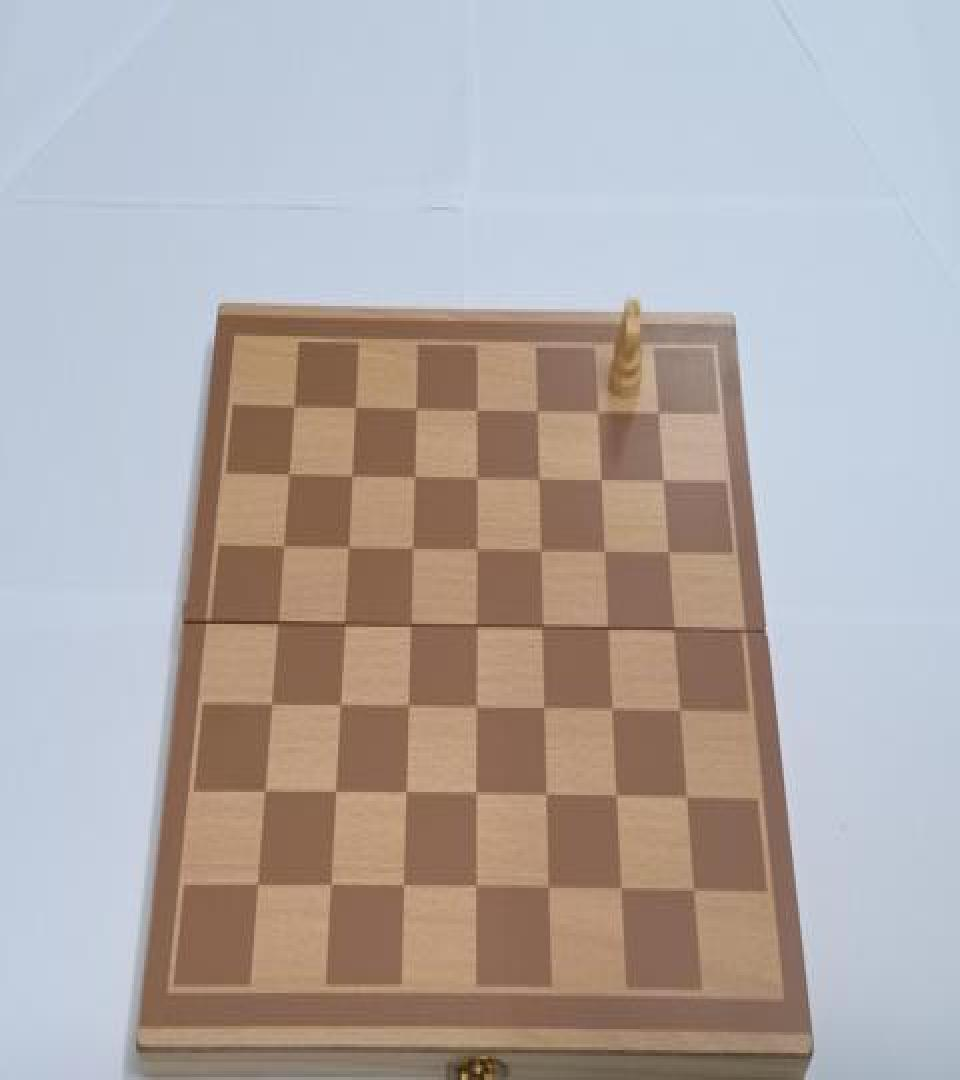xcorner: (344, 460, 362, 488), (399, 694, 417, 722), (469, 394, 487, 422), (468, 694, 486, 722), (593, 466, 611, 494), (656, 466, 674, 494), (281, 459, 299, 486), (275, 532, 293, 559), (269, 609, 287, 636), (254, 780, 272, 807), (246, 873, 264, 900), (348, 393, 366, 420), (340, 534, 358, 561), (335, 610, 353, 637), (330, 693, 348, 720), (325, 780, 343, 807), (320, 874, 338, 901), (409, 393, 427, 420), (406, 462, 424, 489), (404, 534, 422, 561), (402, 612, 420, 639), (393, 876, 411, 903), (467, 783, 485, 810), (467, 876, 485, 903), (530, 396, 548, 423), (531, 465, 549, 492), (533, 537, 551, 564), (536, 696, 554, 723), (538, 785, 556, 812), (590, 397, 608, 424), (597, 538, 615, 565), (600, 615, 618, 642), (608, 785, 626, 812), (613, 879, 631, 906), (651, 399, 669, 426), (661, 540, 679, 567), (666, 617, 684, 644), (672, 699, 690, 726), (679, 786, 697, 813), (686, 880, 704, 907), (287, 392, 305, 418), (262, 692, 280, 718), (396, 782, 414, 808), (469, 464, 487, 490), (468, 536, 486, 562), (468, 614, 486, 640), (534, 614, 552, 640), (540, 878, 558, 904), (604, 698, 622, 724)
